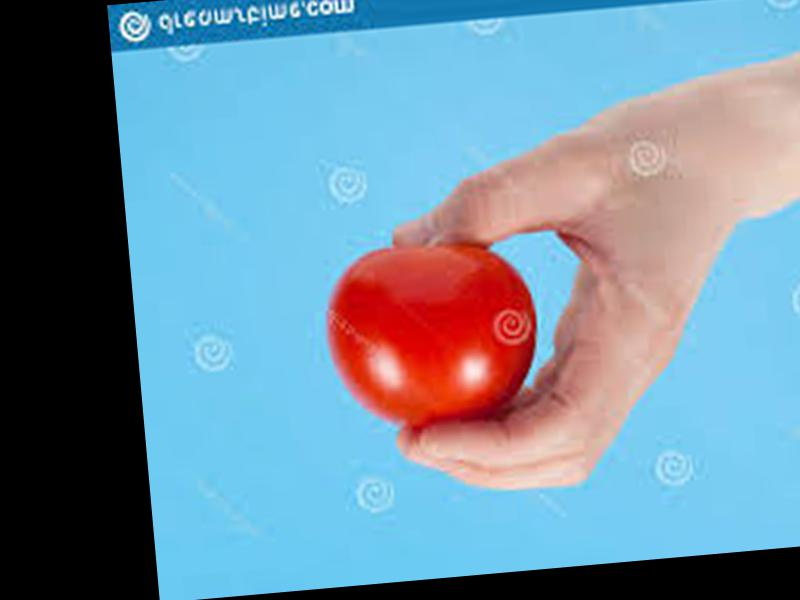Tomato: (321, 235, 542, 438)
